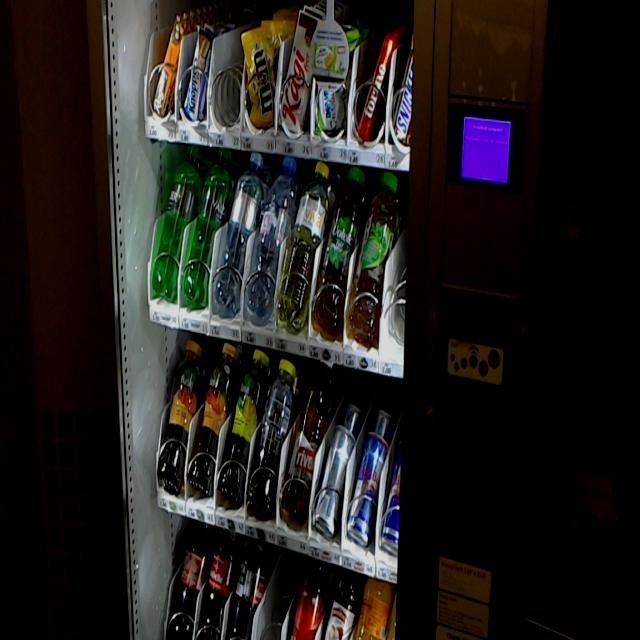coke__flasche_50__54491472: (170, 518, 211, 638), (202, 528, 238, 639)
coke_zero_flasche_50__5449000131836: (232, 537, 268, 639)
darwida_sandwich____7610032065170: (315, 27, 353, 139)
evian___50__3068320353500: (252, 159, 294, 318)
fuse_lemon__50__5449000235947: (254, 358, 294, 499), (230, 348, 266, 494)
fuse_peach__50__5449000236623: (162, 339, 200, 492), (201, 342, 236, 494)
kagi___50__7610046000259: (280, 13, 318, 132)
knoppers_riegel____4035800488808: (184, 26, 213, 114)
mnms_gelb__45__40111445: (244, 28, 276, 126)
ragusa___50__76401121: (154, 17, 186, 115)
redbull___33__90162909: (348, 433, 382, 539), (316, 431, 349, 531)
rivella_rot__50__7610097111072: (287, 357, 330, 506)
torino___46__76415272: (355, 34, 393, 141)
valser_classic__50__76404160: (154, 146, 198, 295), (191, 149, 232, 304)
valser_still__50__7610335002575: (223, 150, 262, 308)
valser_vivabirne__50__7610335001530: (288, 164, 328, 322)
volvic_teeminze__50__3057640335648: (354, 173, 398, 335), (322, 166, 362, 330)
